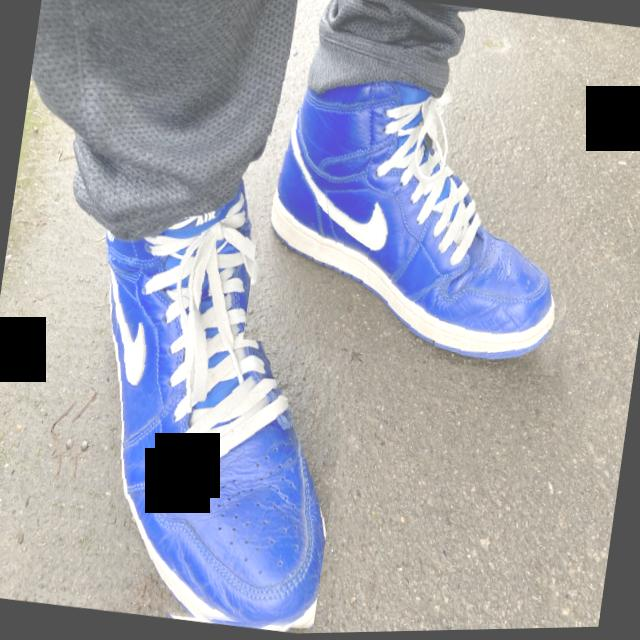shoe: (33, 150, 375, 639), (243, 43, 606, 386)
